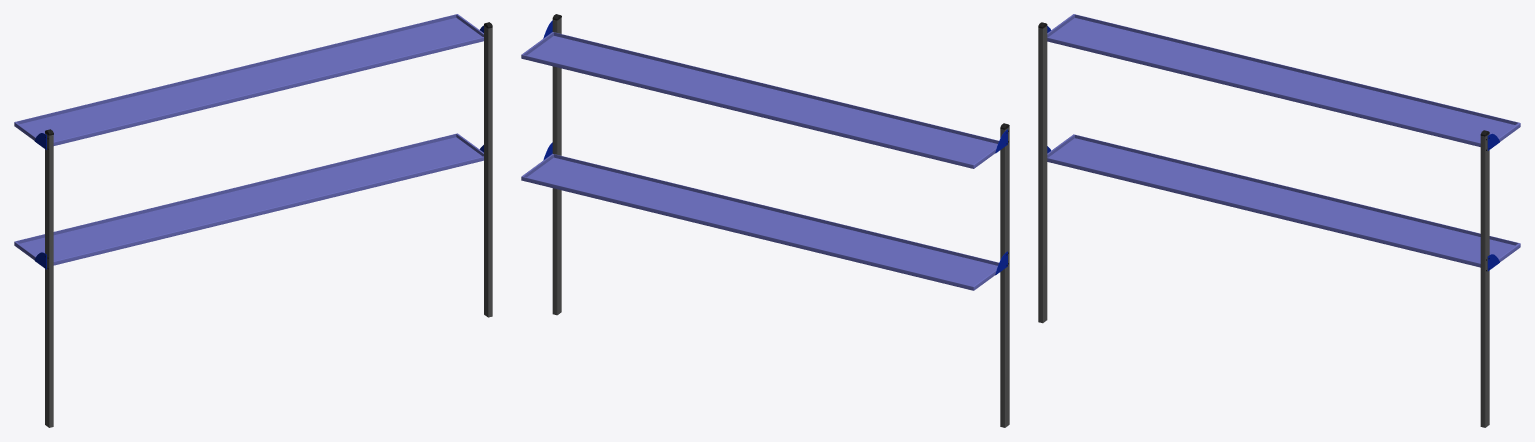
File: EstanteriaAncha.fbx
3 renders of one model, left to right at view 1: azimuth 30°, elevation 25°; view 2: azimuth 150°, elevation 25°; view 3: azimuth 330°, elevation 25°, orthographic. The views are drawn at different scales.
Visible parts, largest first — view 1: Box104, Box119, Box113, Box107; view 2: Box104, Box119, Box107, Box113; view 3: Box104, Box119, Box107, Box113.
Part boxes in pixels (left/top/right/bottom): Box104: left=14, top=14, right=483, bottom=145; Box119: left=14, top=133, right=483, bottom=265; Box113: left=484, top=22, right=492, bottom=317; Box107: left=45, top=129, right=53, bottom=427; Box104: left=521, top=32, right=998, bottom=168; Box119: left=521, top=153, right=998, bottom=290; Box107: left=1000, top=123, right=1009, bottom=427; Box113: left=552, top=14, right=561, bottom=315; Box104: left=1047, top=14, right=1520, bottom=146; Box119: left=1047, top=134, right=1520, bottom=267; Box107: left=1038, top=22, right=1047, bottom=323; Box113: left=1480, top=130, right=1489, bottom=427.
Size of the model in its own units: 39.32 by 24.92 by 5.38.
